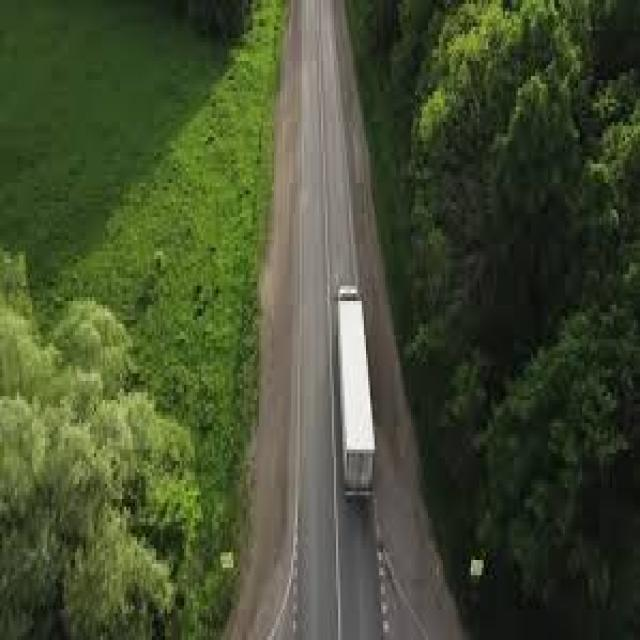truck: (332, 281, 379, 497)
